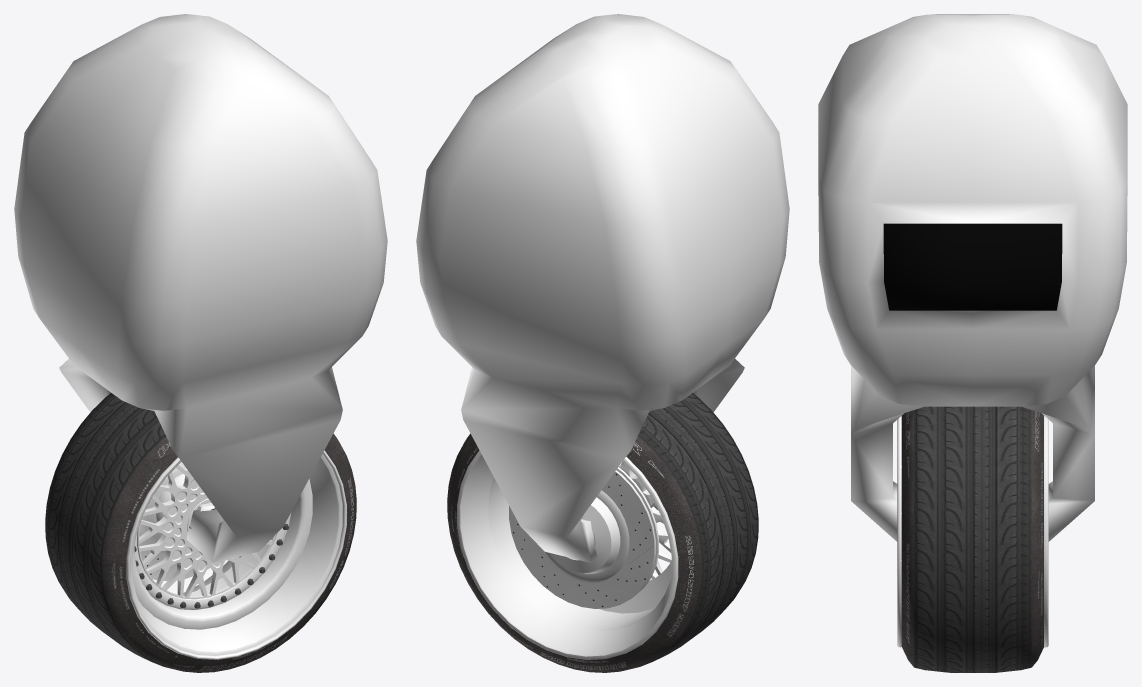
Rendered from wheel_bot.glb.
3 renders of one model, left to right at view 1: azimuth 30°, elevation 25°; view 2: azimuth 150°, elevation 25°; view 3: azimuth 270°, elevation 25°, orthographic. The views are drawn at different scales.
Parts seen in each view (by area): view 1: Cube, Rim, Tire; view 2: Cube, Rim, Tire; view 3: Cube, Tire, Rim.
Boxes of the visible parts, x1,y1,x2,y2 form: Cube: (14,14,387,562); Rim: (126,450,346,659); Tire: (45,393,356,672); Cube: (416,14,789,562); Rim: (457,450,678,659); Tire: (447,393,758,672); Cube: (818,14,1127,541); Tire: (901,406,1043,672); Rim: (897,416,1048,647).
Size of the model in its own units: 3.22 by 7.25 by 3.18.
6 materials, 2 textured.
